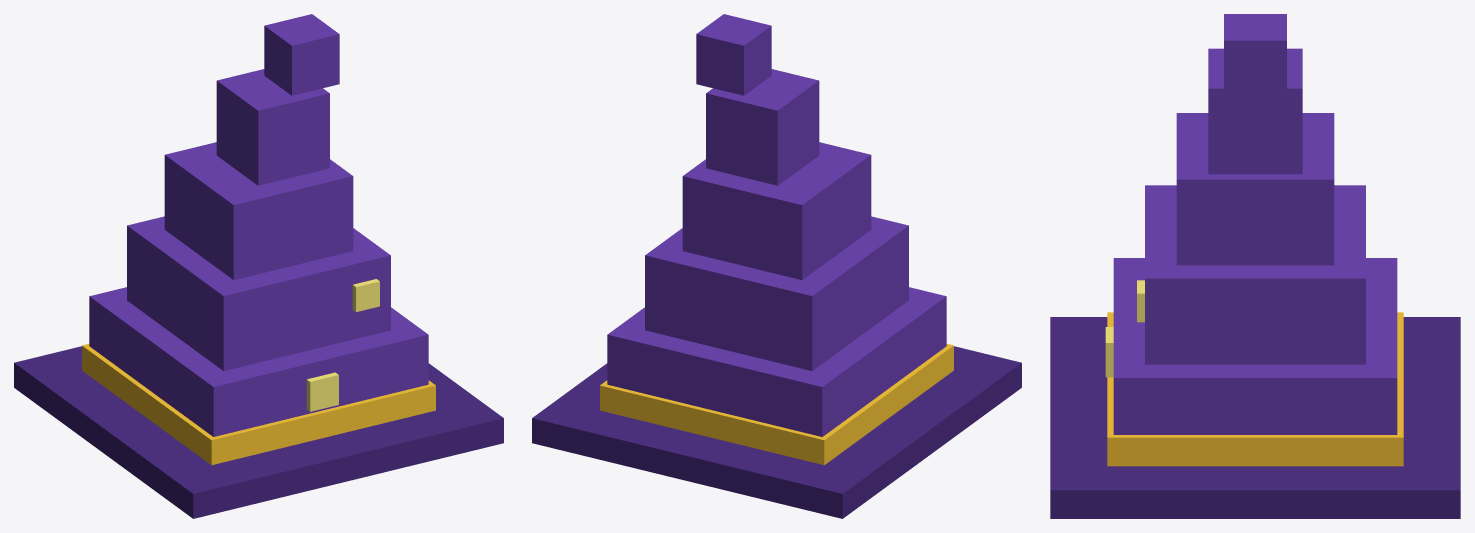
Rendered from hat_wizard.obj.
The picture shows the model from 3 angles, left to right: view 1: azimuth 30°, elevation 25°; view 2: azimuth 150°, elevation 25°; view 3: azimuth 270°, elevation 25°; orthographic projection. The views are drawn at different scales.
Visible parts, largest first — view 1: hat_wizard; view 2: hat_wizard; view 3: hat_wizard.
Part boxes in pixels (box(x1,y1,x2,y2)): hat_wizard: box(14, 14, 503, 518); hat_wizard: box(532, 14, 1021, 518); hat_wizard: box(1050, 14, 1460, 518).
Size of the model in its own units: 0.8125 by 0.9375 by 0.8125.
